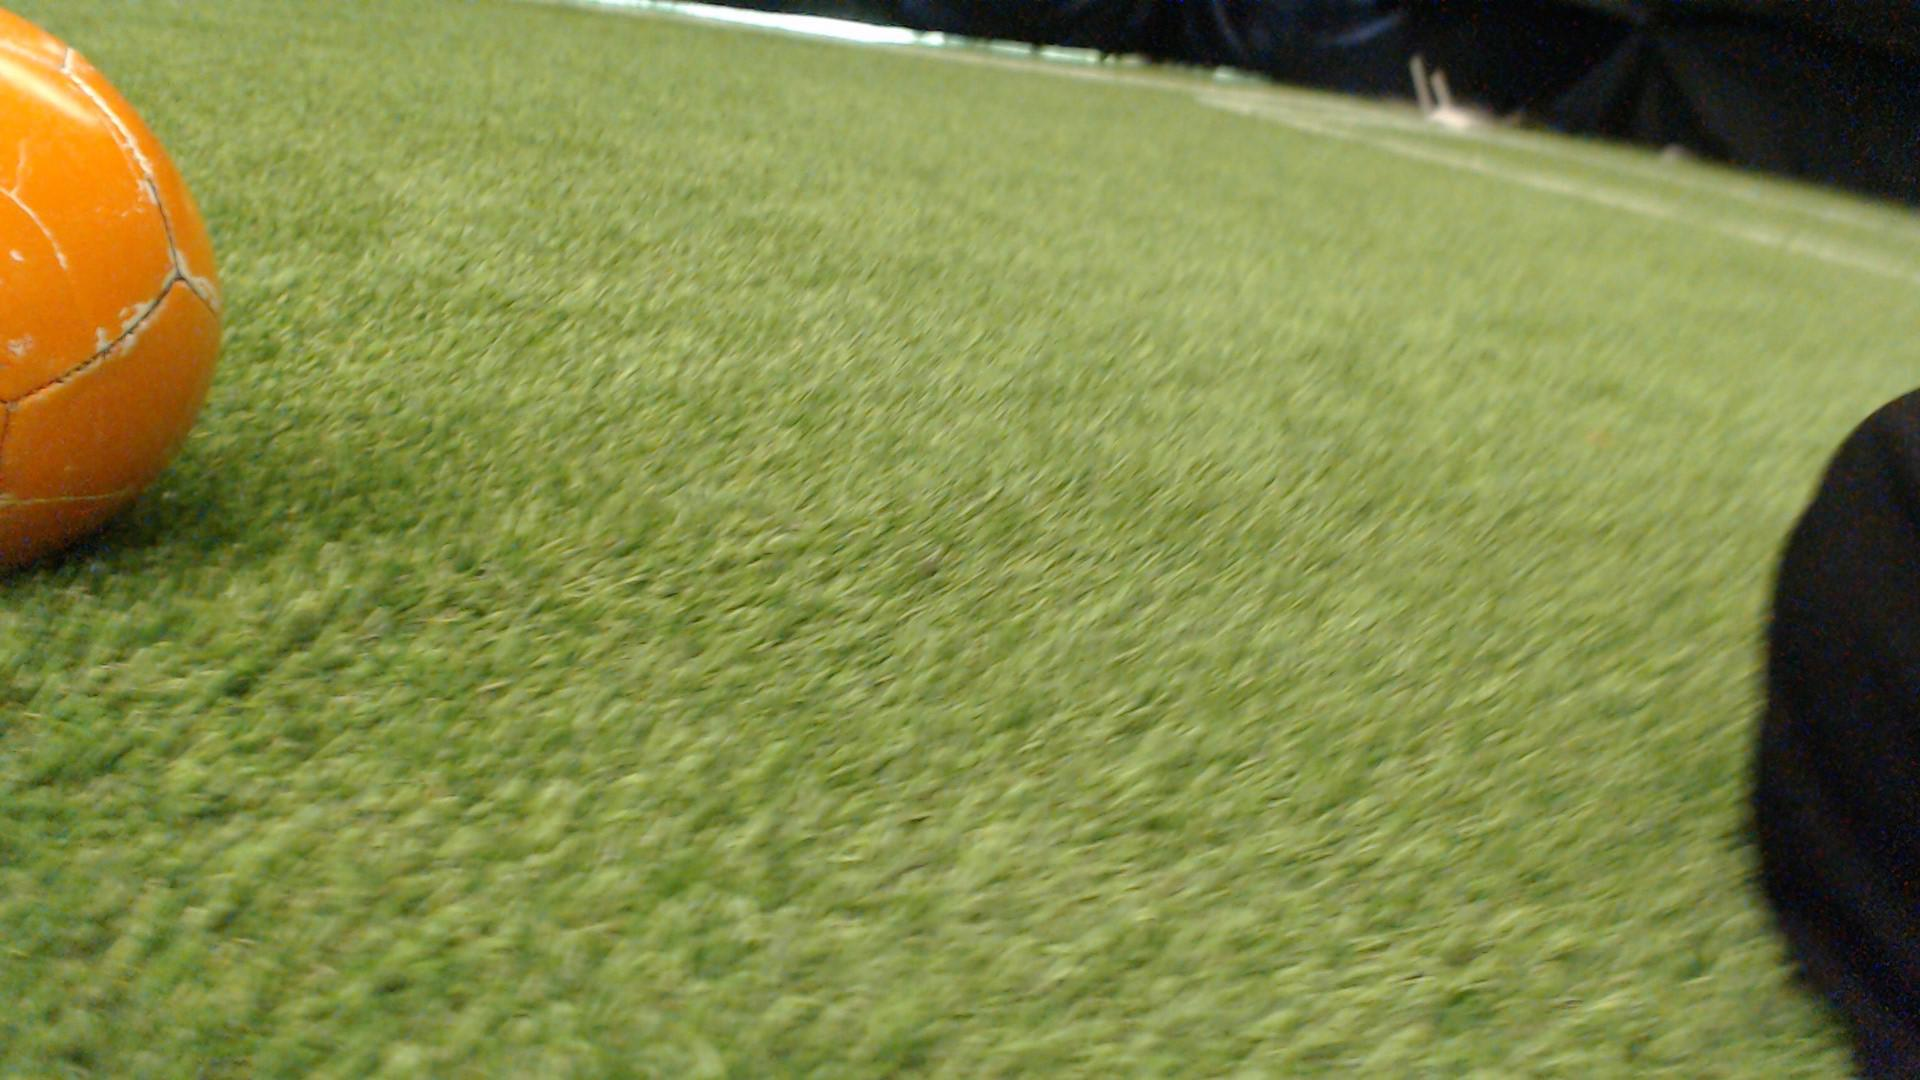bola: (0, 0, 254, 608)
